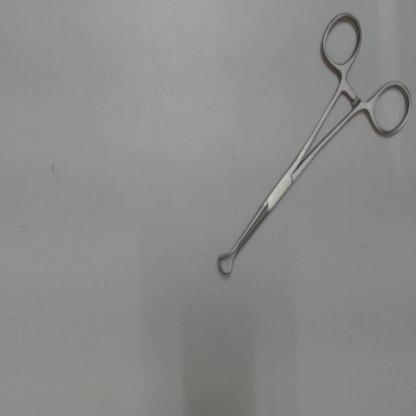Babcock Tissue Forceps: (211, 6, 415, 283)
